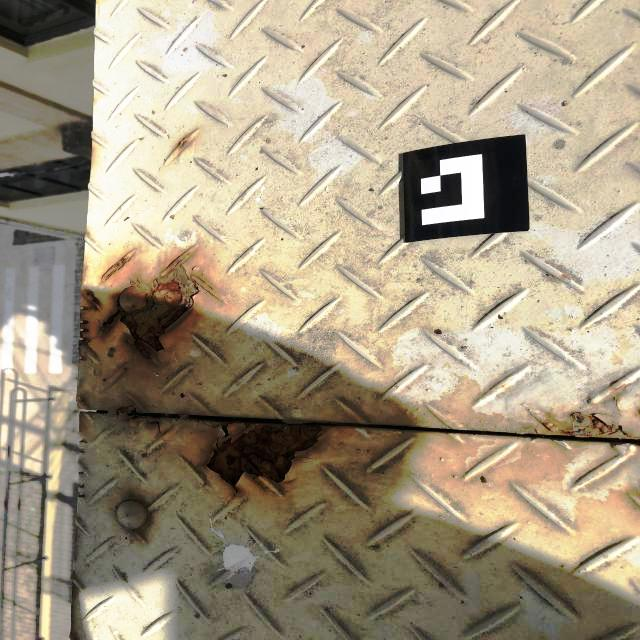Corrosion: (101, 245, 212, 358), (207, 418, 323, 486), (528, 407, 629, 438), (116, 407, 175, 435), (100, 248, 136, 282), (79, 315, 99, 364), (80, 286, 99, 310), (612, 384, 624, 413), (178, 138, 187, 147), (561, 274, 568, 279)
